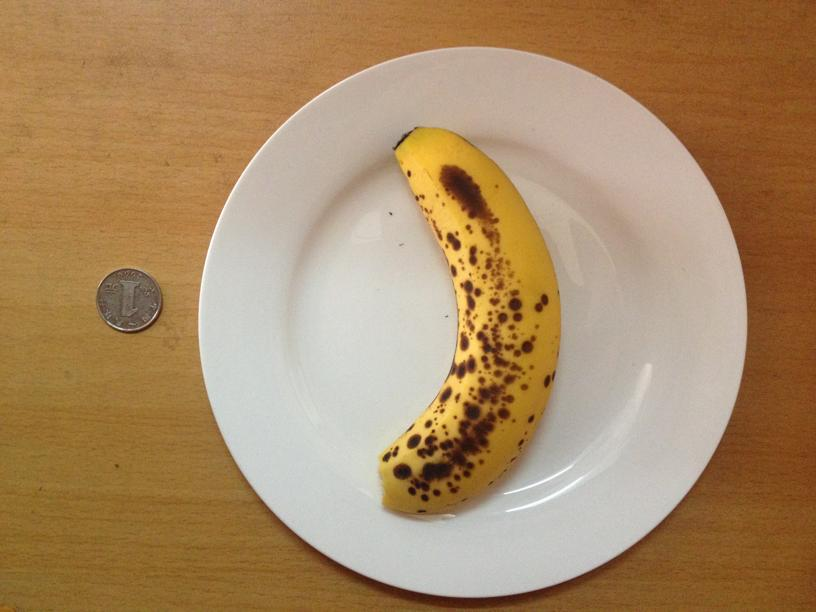banana: (370, 123, 560, 518)
coin: (93, 268, 163, 334)
